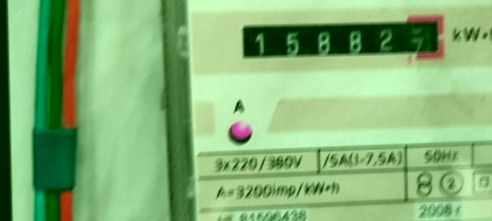1: (252, 30, 265, 56)
2: (376, 27, 393, 52)
5: (283, 30, 298, 56)
7: (407, 35, 423, 53)
8: (314, 29, 331, 55), (346, 29, 362, 54)
screen: (231, 10, 451, 72)
